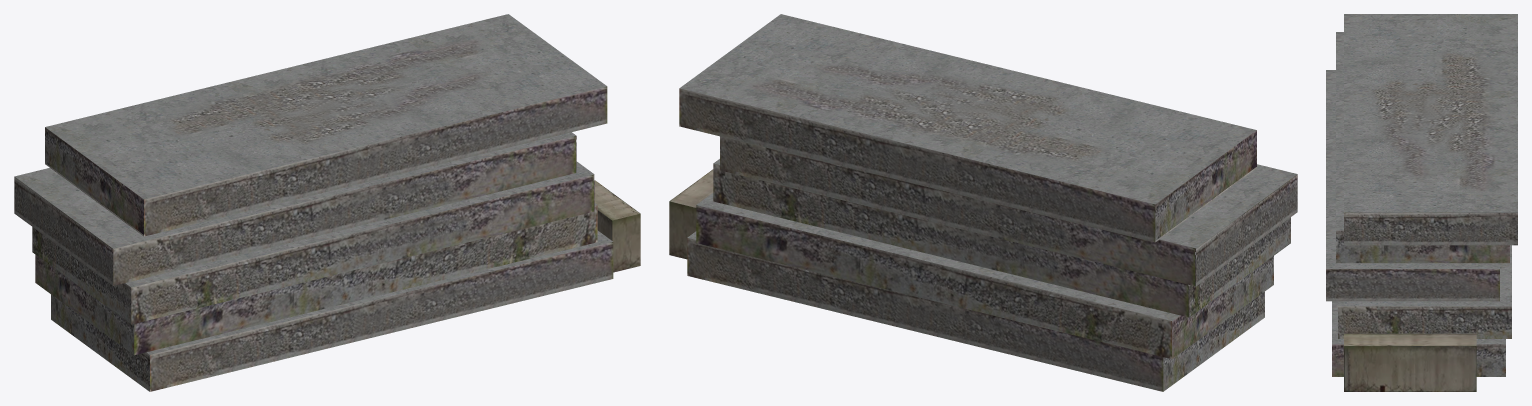
Rendered from Fbig3.FBX.
3 views of the same model, side by side, from view 1: azimuth 30°, elevation 25°; view 2: azimuth 150°, elevation 25°; view 3: azimuth 270°, elevation 25° (orthographic). The views are drawn at different scales.
Parts seen in each view (by area): view 1: Fbig3; view 2: Fbig3; view 3: Fbig3.
Boxes of the visible parts, x1,y1,x2,y2 form: Fbig3: (14,14,640,391); Fbig3: (669,14,1297,391); Fbig3: (1326,14,1517,391).
Size of the model in its own units: 887 by 299 by 315.
